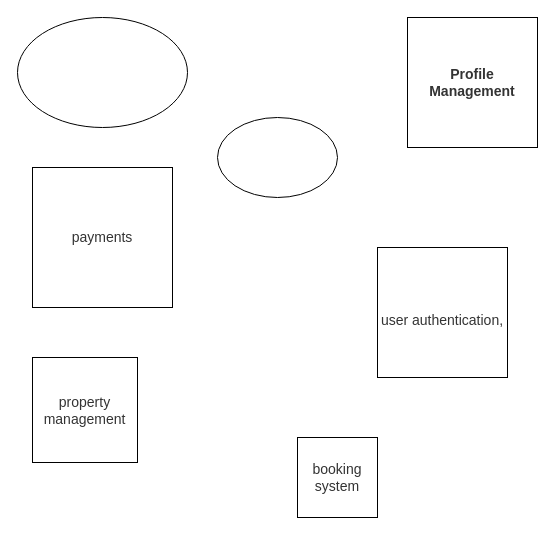
This 555x535 diagram has some shape labels left out. Each missing label, with the centre of its shape:
"login by email and" goes at pixel 277 157.
"user registration as as guests or hosts ." goes at pixel 102 72.
